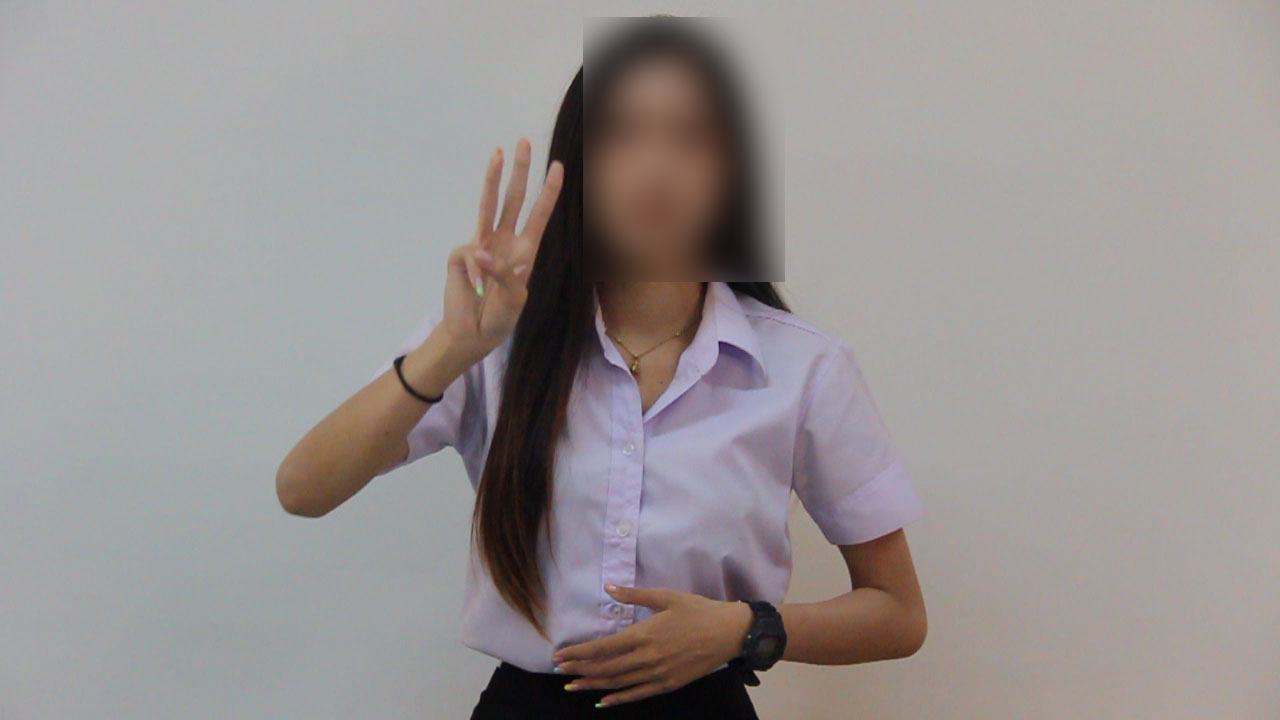wor: (428, 129, 572, 364)
